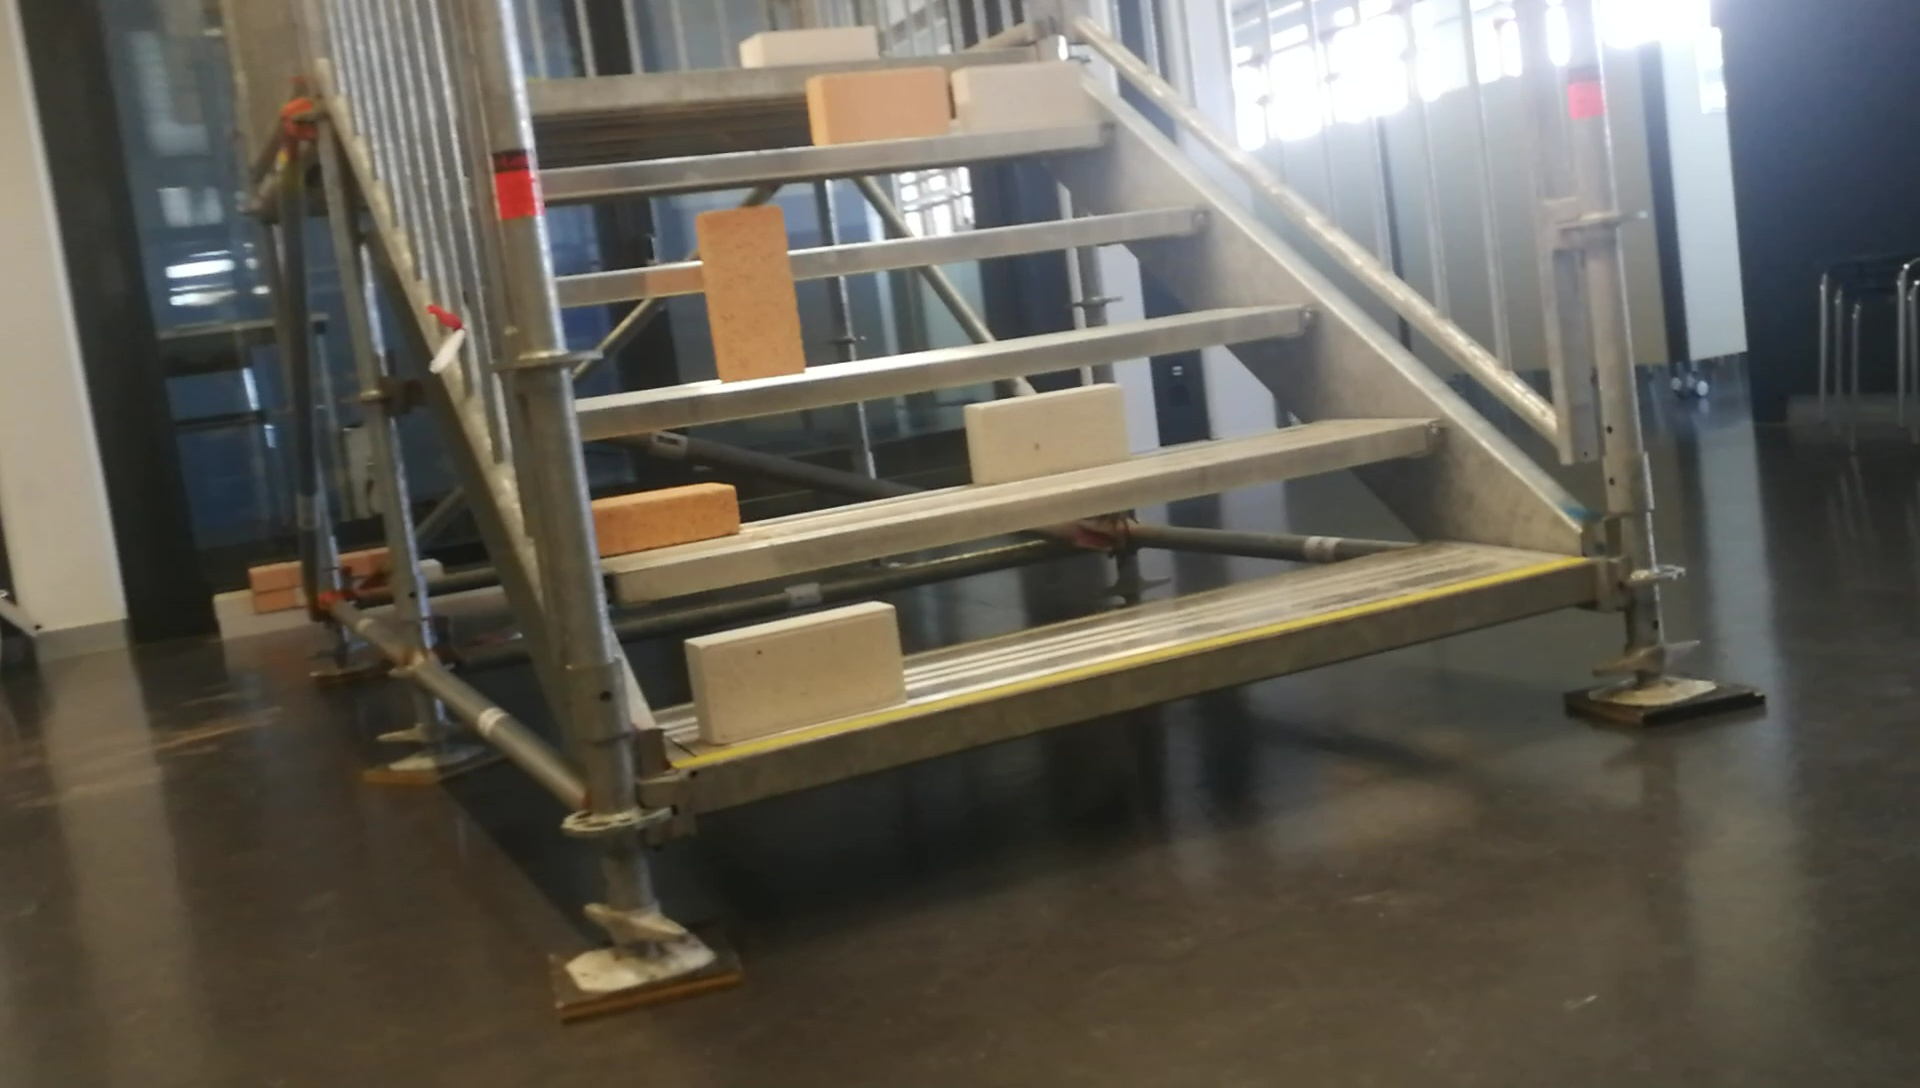brick: (683, 599, 901, 742), (700, 207, 804, 380), (969, 382, 1117, 483), (591, 483, 736, 557), (808, 70, 943, 142), (953, 62, 1080, 127), (738, 26, 877, 67)
edge: (694, 560, 1600, 814), (609, 421, 1449, 601), (578, 302, 1312, 440), (556, 206, 1207, 313), (538, 123, 1117, 193), (524, 53, 1050, 103)
stairs: (495, 5, 1764, 1008)
steps: (505, 17, 1619, 832)
